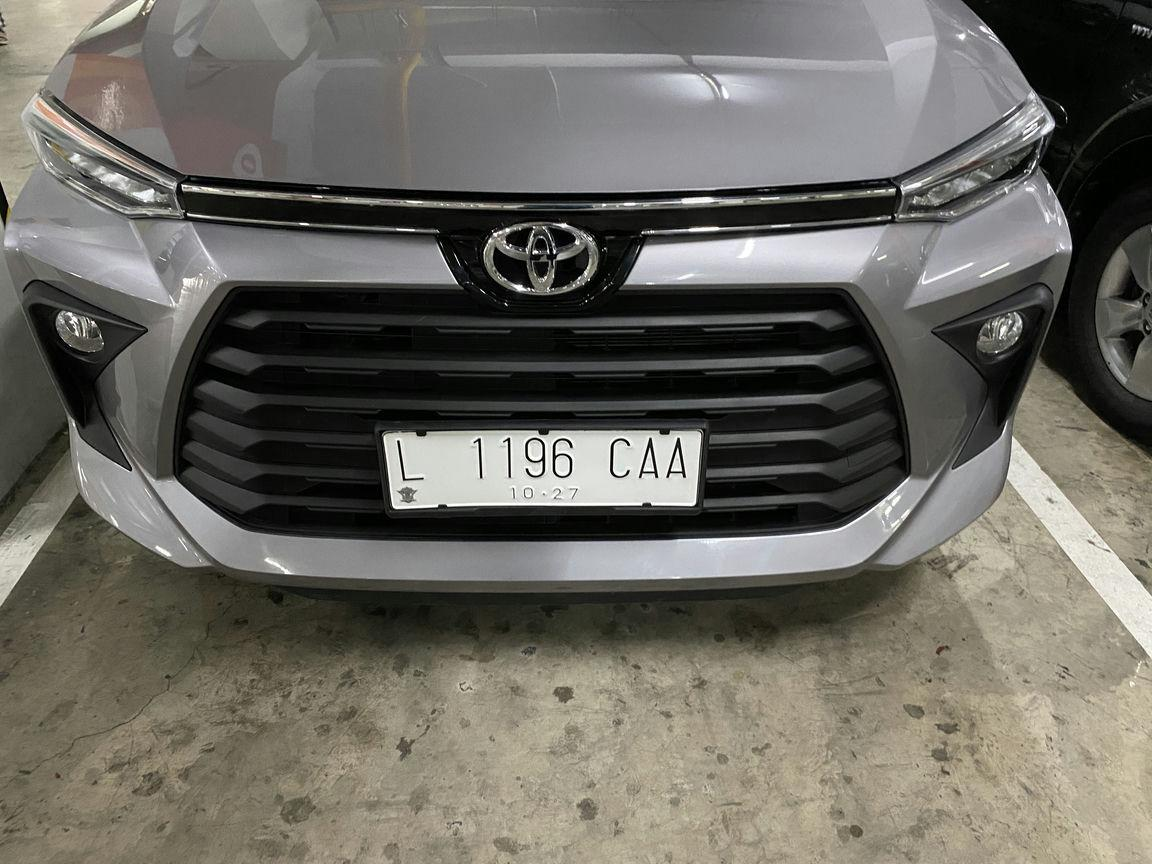plat: (380, 428, 704, 513)
